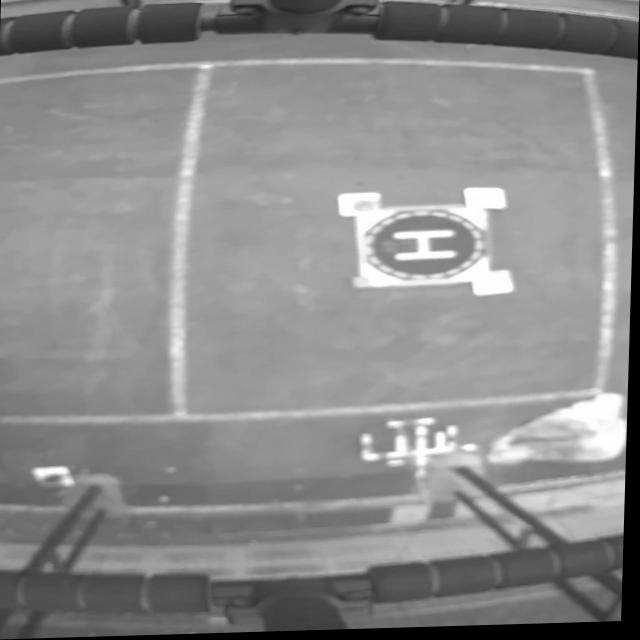Helipad: (394, 233, 456, 263)
